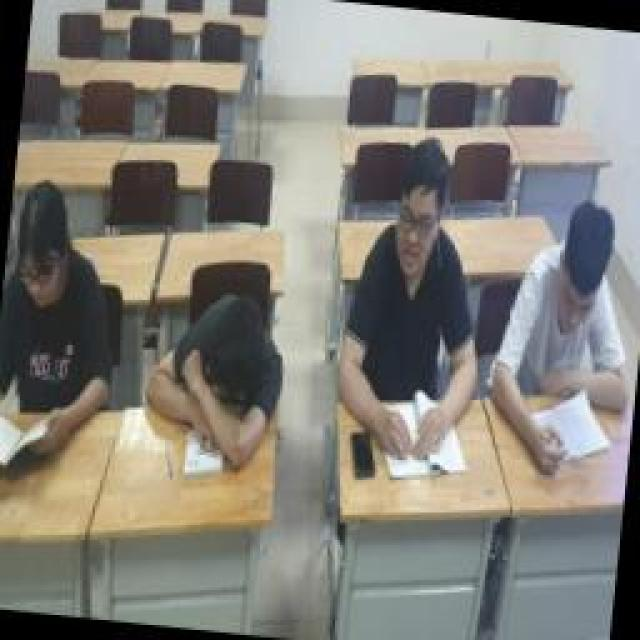sleep: (130, 290, 292, 485)
study: (325, 130, 497, 480), (487, 187, 640, 480), (0, 175, 130, 467)
